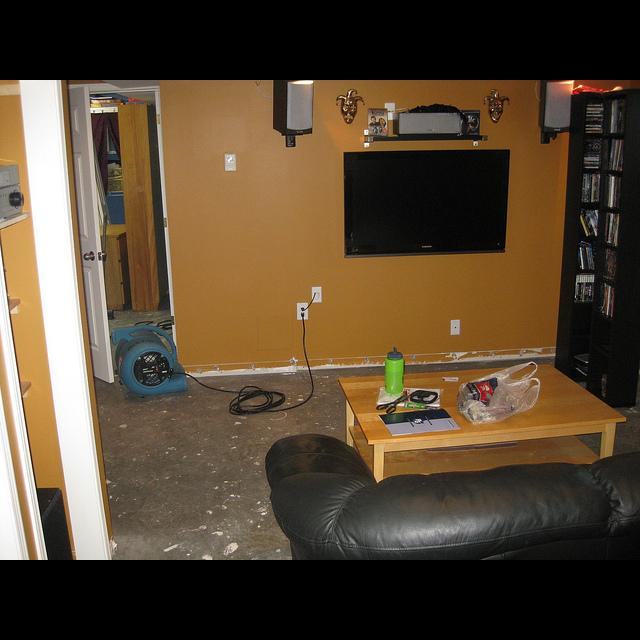Flat-Panel-TV: (345, 143, 516, 257)
